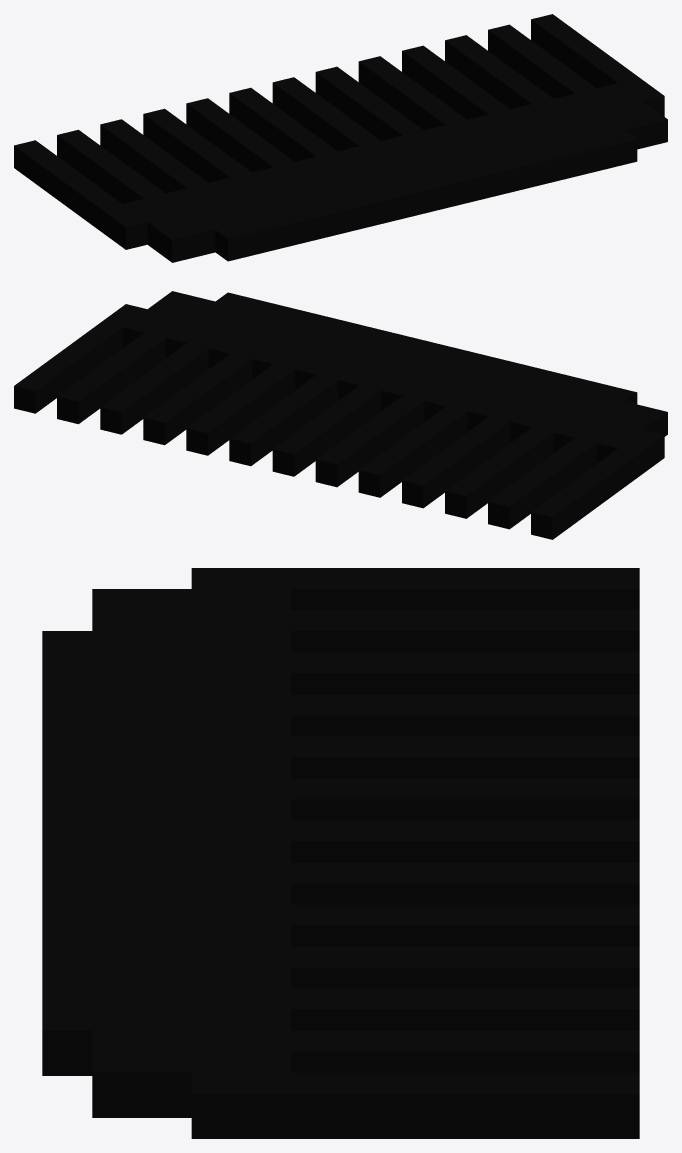
Rendered from pettine.gltf.
3 views of the same model, one above another, from view 1: azimuth 30°, elevation 25°; view 2: azimuth 150°, elevation 25°; view 3: azimuth 270°, elevation 25° (orthographic). The views are drawn at different scales.
Visible parts, largest first — view 1: Layer.1; view 2: Layer.1; view 3: Layer.1.
Part boxes in pixels (x1,y1,x2,y2): Layer.1: (14, 14, 667, 262); Layer.1: (14, 291, 667, 539); Layer.1: (42, 568, 639, 1138).
Bounding box in the file's own units: 25 × 1 × 12.
Materials: 1 (1 with a texture image).
